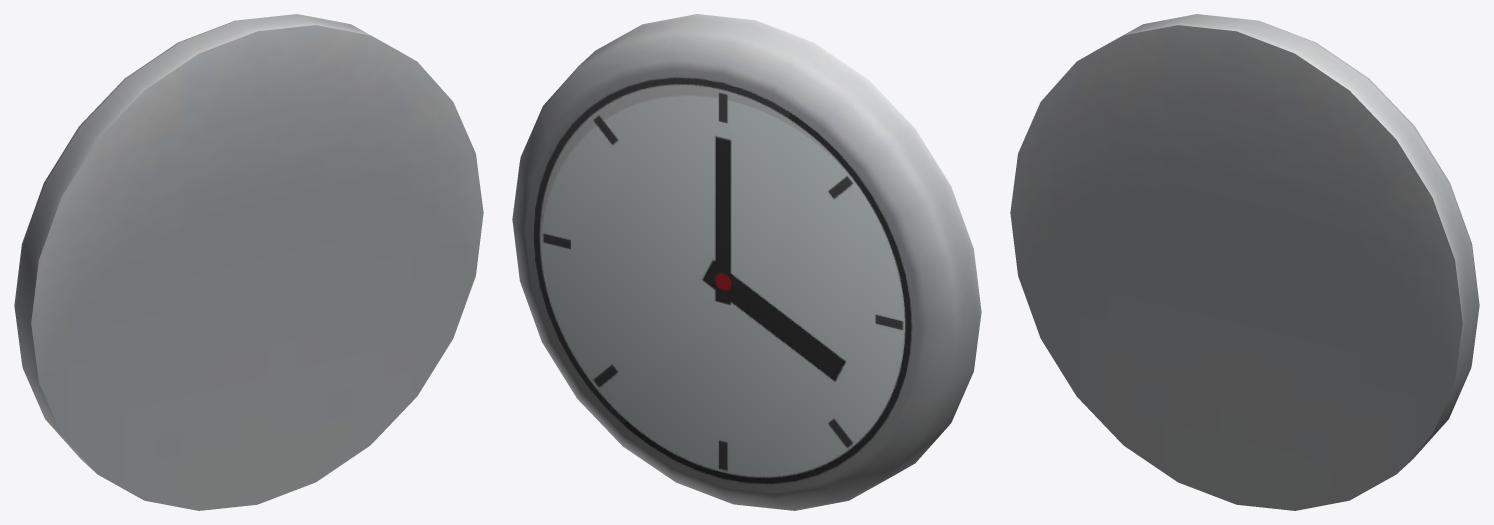
Rendered from OfficeWallClock01.fbx.
3 views of the same model, side by side, from view 1: azimuth 30°, elevation 25°; view 2: azimuth 150°, elevation 25°; view 3: azimuth 330°, elevation 25° (orthographic).
Parts seen in each view (by area): view 1: OfficeWallClock01; view 2: OfficeWallClock01; view 3: OfficeWallClock01.
Part boxes in pixels (x1,y1,x2,y2): OfficeWallClock01: (14, 14, 483, 510); OfficeWallClock01: (512, 14, 981, 510); OfficeWallClock01: (1010, 14, 1479, 510).
Bounding box in the file's own units: 0.44 × 0.44 × 0.0549.
Materials: 1 (1 with a texture image).
